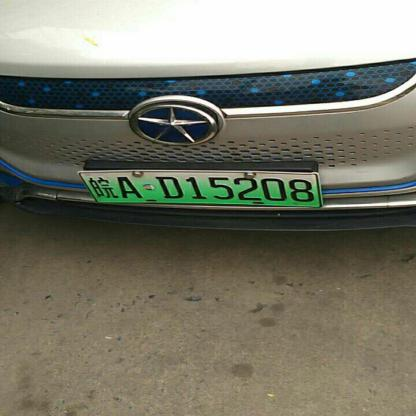lp: (78, 174, 321, 208)
